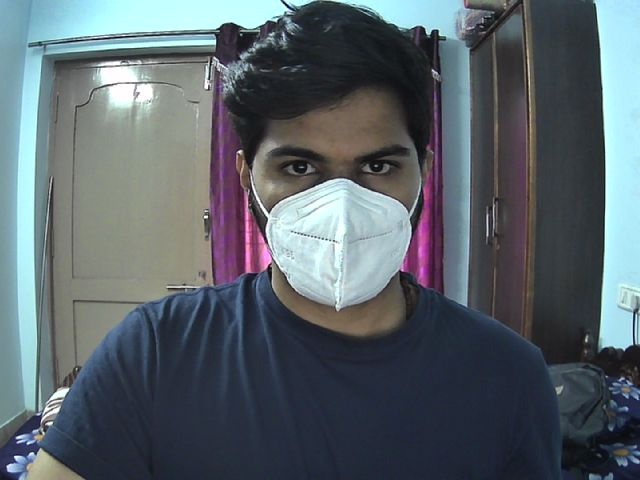Mask: (252, 179, 420, 313)
